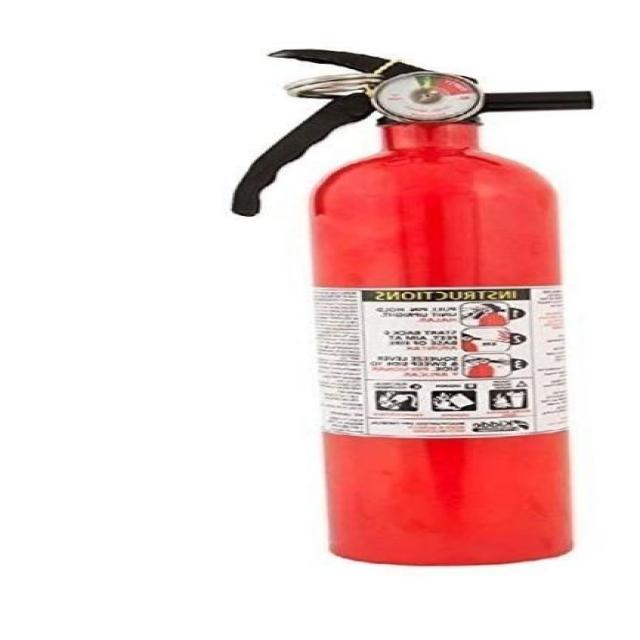fire_extinguisher: (220, 39, 605, 574)
